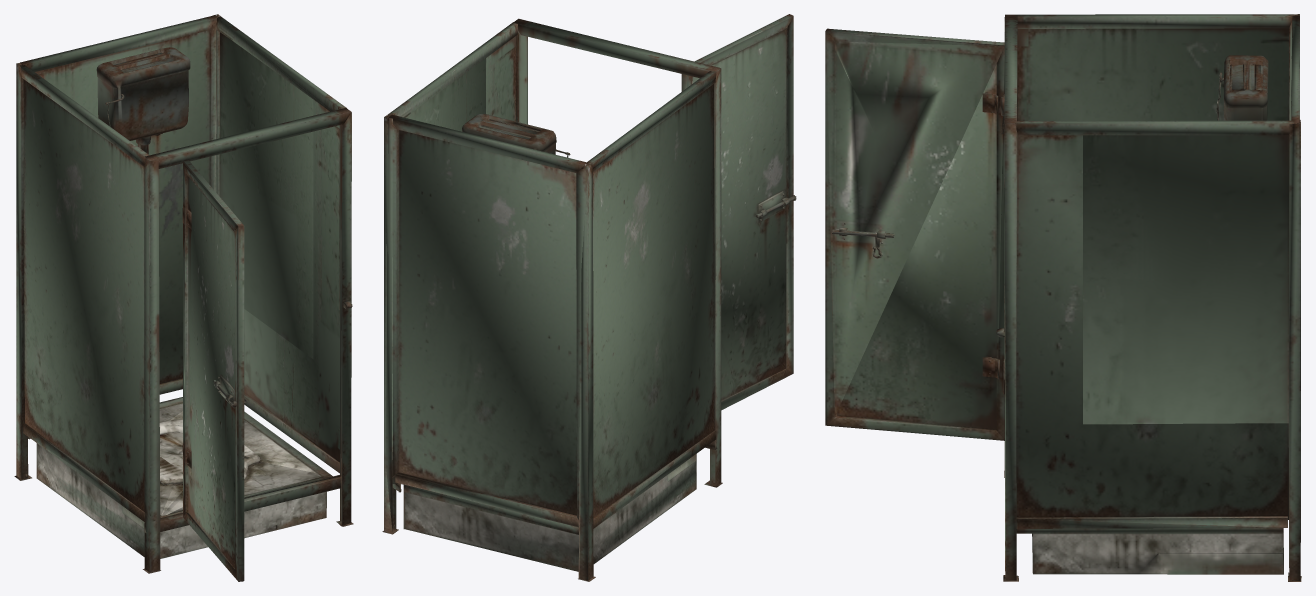
Rendered from silo81_toilet_stall.glb.
The picture shows the model from 3 angles, left to right: view 1: azimuth 30°, elevation 25°; view 2: azimuth 150°, elevation 25°; view 3: azimuth 270°, elevation 25°; orthographic projection. The views are drawn at different scales.
Size of the model in its own units: 0.4971 by 0.9536 by 0.8989.
Materials: 1 (1 with a texture image).
